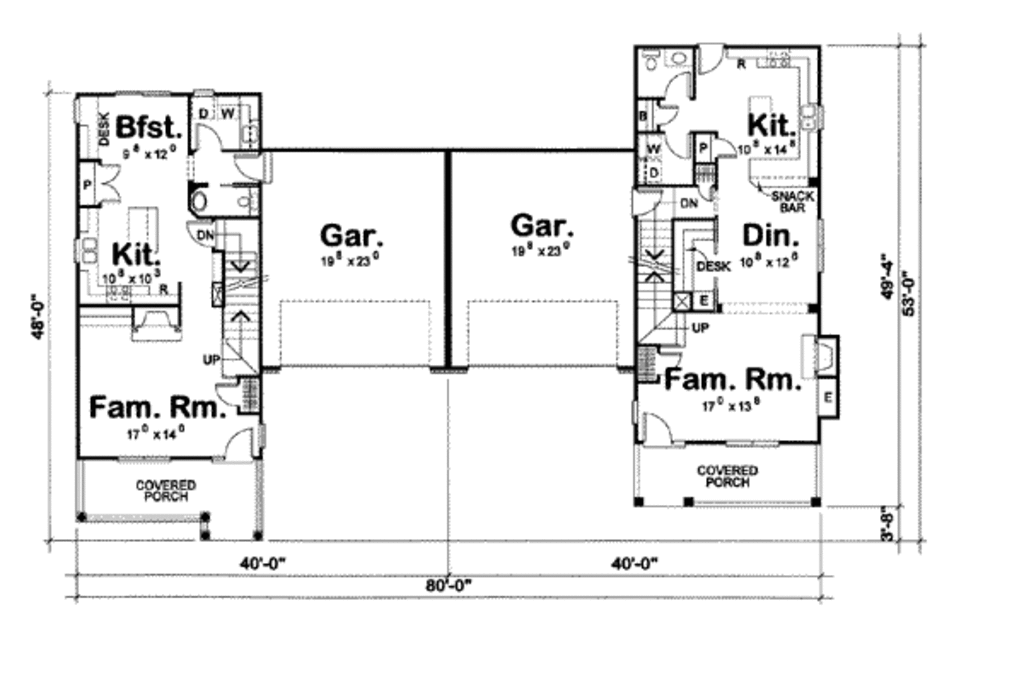door: (180, 212, 224, 253), (638, 408, 676, 454), (229, 152, 281, 183), (214, 427, 260, 462), (185, 119, 226, 156), (90, 160, 126, 201), (663, 130, 697, 167), (628, 185, 668, 214), (211, 376, 245, 408), (700, 42, 730, 77), (663, 68, 695, 100), (653, 104, 682, 130), (712, 136, 738, 162)
large_sink: (229, 181, 261, 213), (636, 48, 662, 77)
small_sink: (183, 184, 210, 211), (663, 50, 695, 65)
stairs: (632, 191, 713, 347), (212, 217, 273, 378)
twin_sink: (66, 227, 115, 281), (799, 97, 833, 136)
window: (112, 450, 178, 469), (813, 220, 829, 278), (719, 436, 781, 448)
